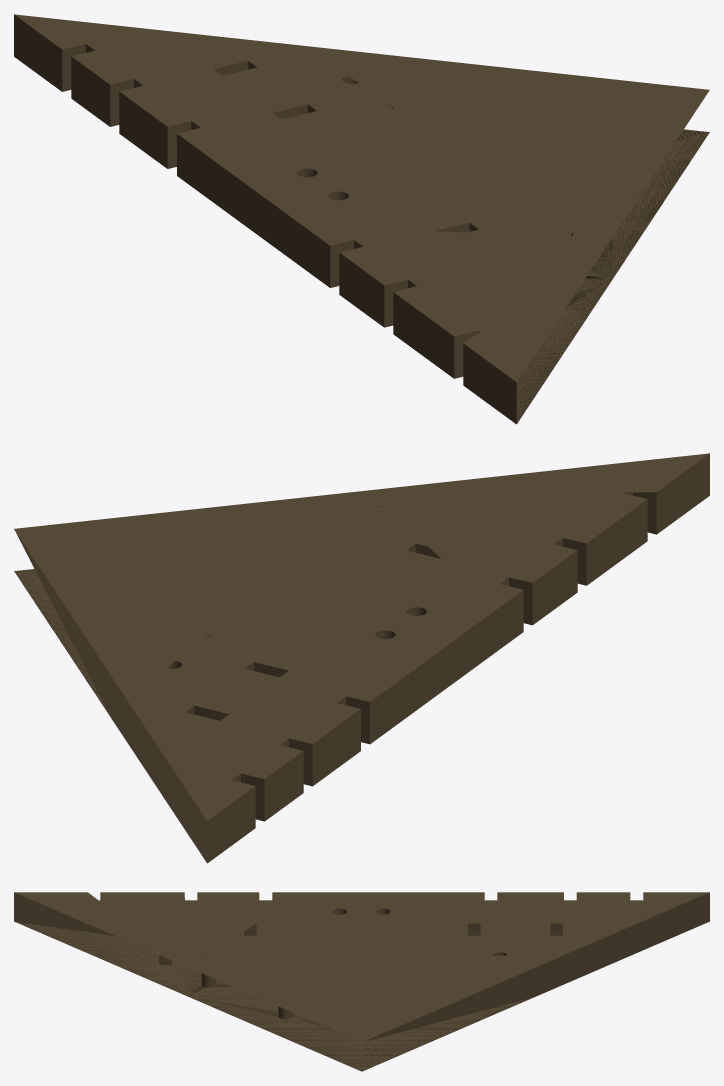
Rendered from body_5.fbx.
The picture shows the model from 3 angles, top to bottom: view 1: azimuth 30°, elevation 25°; view 2: azimuth 150°, elevation 25°; view 3: azimuth 270°, elevation 25°; orthographic projection. The views are drawn at different scales.
Visible parts, largest first — view 1: pCube64; view 2: pCube64; view 3: pCube64.
Boxes of the visible parts, x1,y1,x2,y2 form: pCube64: [14, 14, 709, 424]; pCube64: [14, 453, 709, 863]; pCube64: [14, 892, 709, 1071].
Bounding box in the file's own units: 4.02 × 0.3652 × 7.87.
